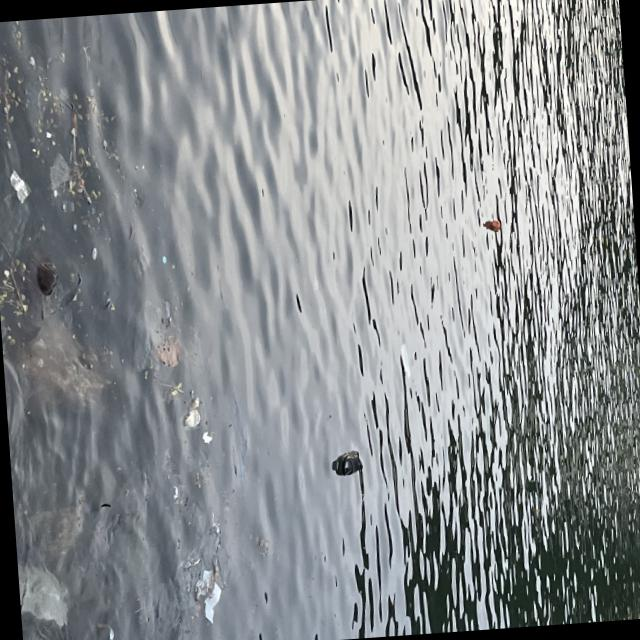foam: (200, 430, 212, 443)
plastic: (490, 219, 500, 232)
plastic bottle: (128, 298, 168, 372), (200, 582, 223, 624), (179, 394, 201, 431), (9, 169, 32, 204), (49, 152, 70, 188), (95, 622, 114, 640), (198, 568, 212, 590), (168, 484, 178, 499)
unknow: (333, 451, 363, 476)
